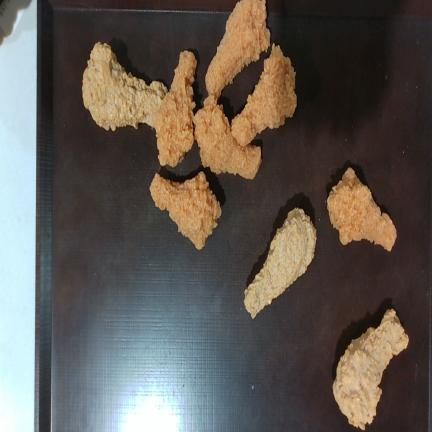chicken: (333, 310, 409, 430), (244, 208, 316, 318), (82, 42, 167, 131), (232, 43, 296, 146), (206, 0, 270, 99), (327, 167, 397, 251), (193, 97, 261, 179), (150, 172, 221, 250), (154, 50, 196, 166)
